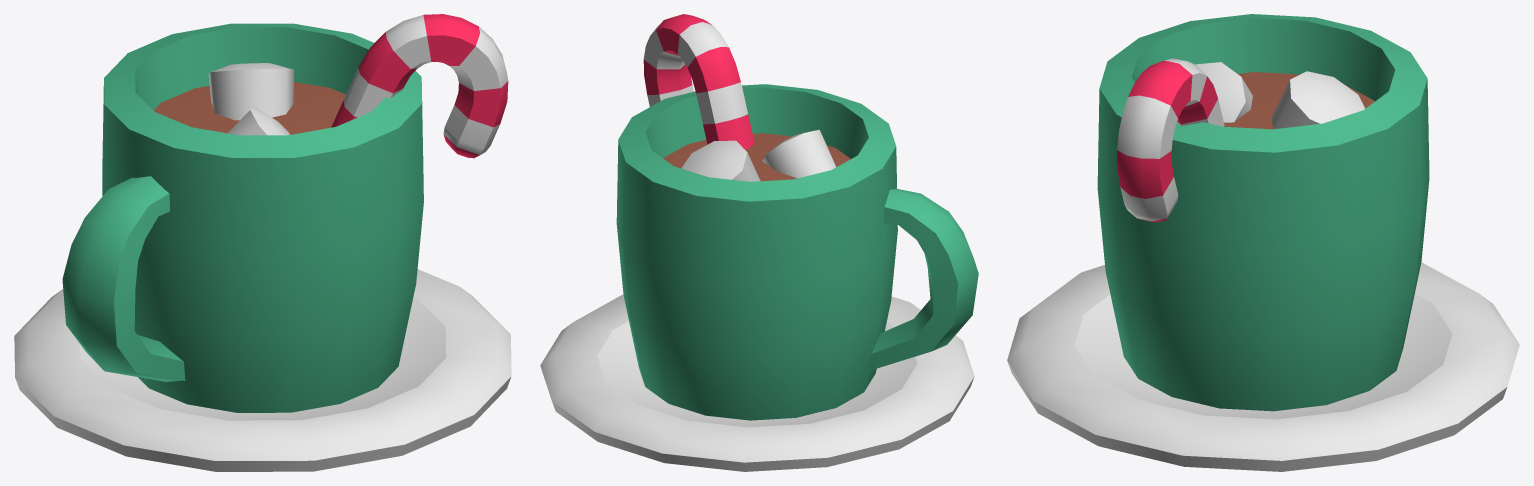
File: hotChocolateA.gltf.glb
3 renders of one model, left to right at view 1: azimuth 30°, elevation 25°; view 2: azimuth 150°, elevation 25°; view 3: azimuth 270°, elevation 25°, orthographic. The views are drawn at different scales.
Parts seen in each view (by area): view 1: hotChocolateA; view 2: hotChocolateA; view 3: hotChocolateA.
Boxes of the visible parts, <box> form: hotChocolateA: <box>14,14,511,471</box>; hotChocolateA: <box>540,14,978,471</box>; hotChocolateA: <box>1007,14,1519,471</box>.
Size of the model in its own units: 0.5596 by 0.4773 by 0.5559.
